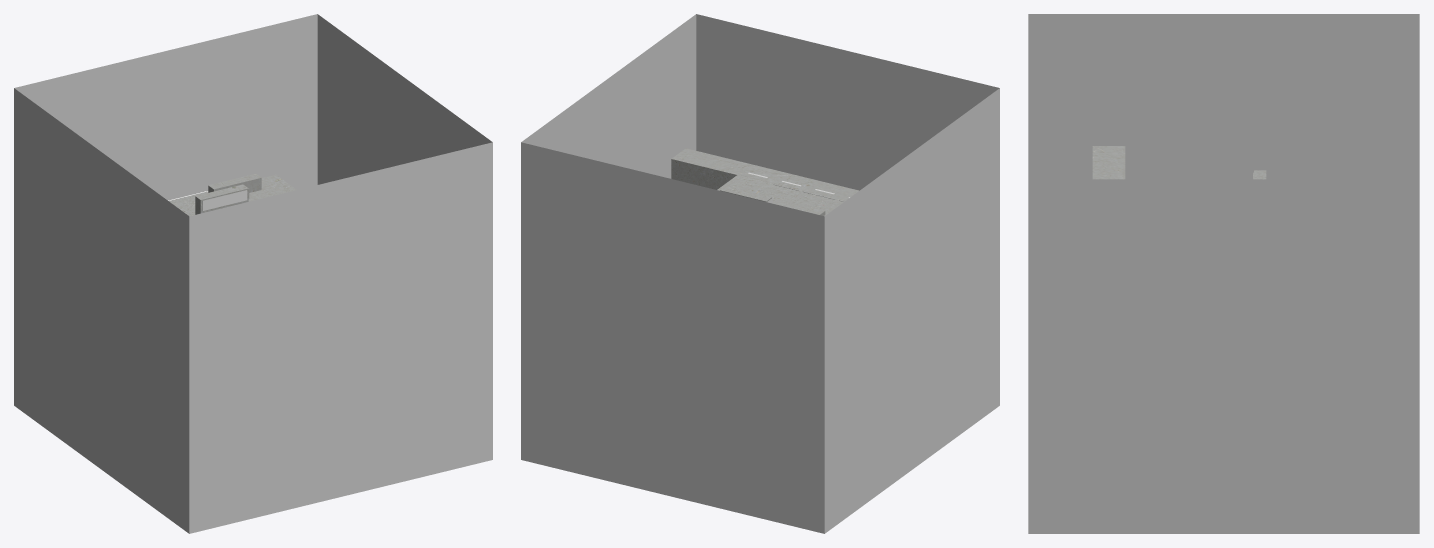
Rendered from LabE046_RB.fbx.
3 views of the same model, side by side, from view 1: azimuth 30°, elevation 25°; view 2: azimuth 150°, elevation 25°; view 3: azimuth 270°, elevation 25° (orthographic). The views are drawn at different scales.
Parts seen in each view (by area): view 1: Cube, Roof; view 2: Cube, WallNorth_exterior, Roof; view 3: Cube, WallNorth_exterior.
Boxes of the visible parts, x1,y1,x2,y2 form: Cube: (14,14,492,533); Roof: (169,173,296,216); Cube: (521,14,999,533); WallNorth_exterior: (671,148,858,201); Roof: (717,175,844,216); Cube: (1028,14,1419,533); WallNorth_exterior: (1092,146,1125,179).
Size of the model in its own units: 2534 by 2534 by 2534.
